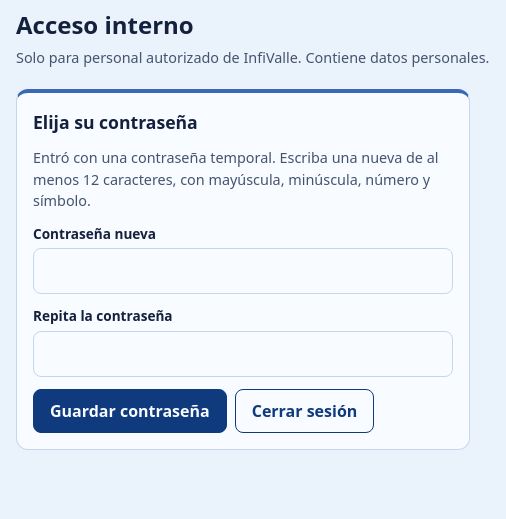
Test: Errores al cambiar la contraseña › un error desconocido muestra el código y el mensaje de Supabase
Type "Una-Clave-Larga-9!" into the password field labelled "Contraseña nueva" at (243, 271), box x1=33 y1=248 x2=453 y2=294
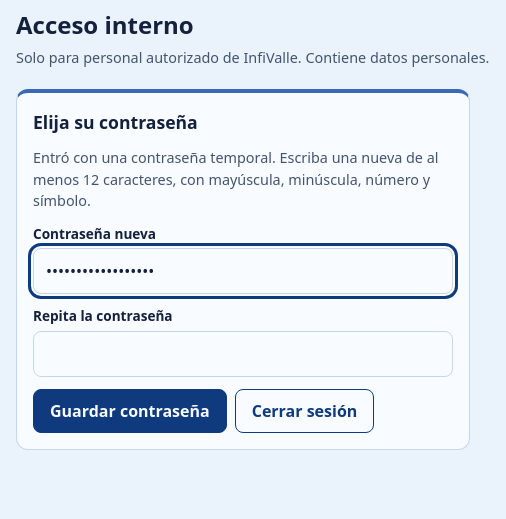
Type "Una-Clave-Larga-9!" into the password field labelled "Repita la contraseña" at (243, 354), box x1=33 y1=331 x2=453 y2=377
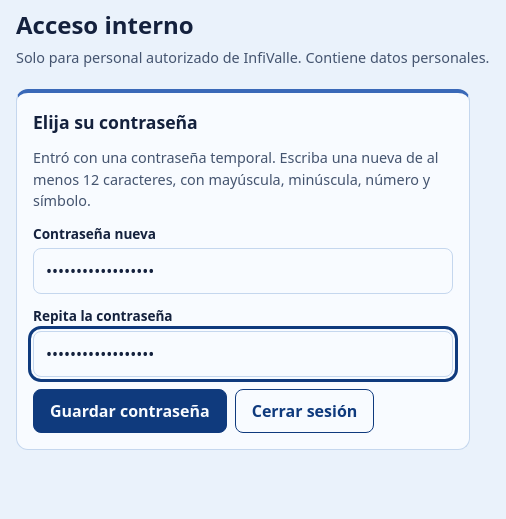
Click the button "Guardar contraseña" at (130, 411), box x1=33 y1=389 x2=227 y2=433
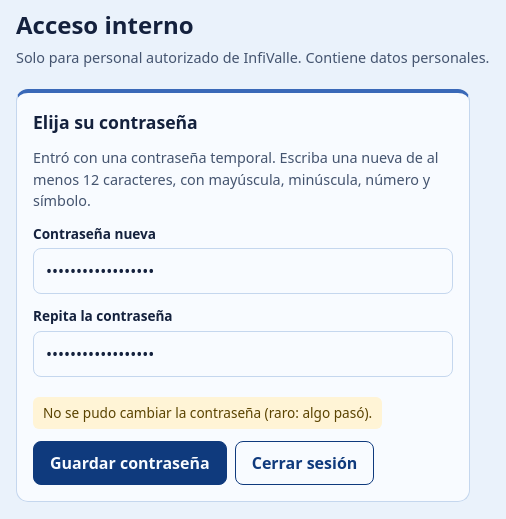
Expected: the message shows "raro: algo pasó", x1=43 y1=403 x2=372 y2=422
